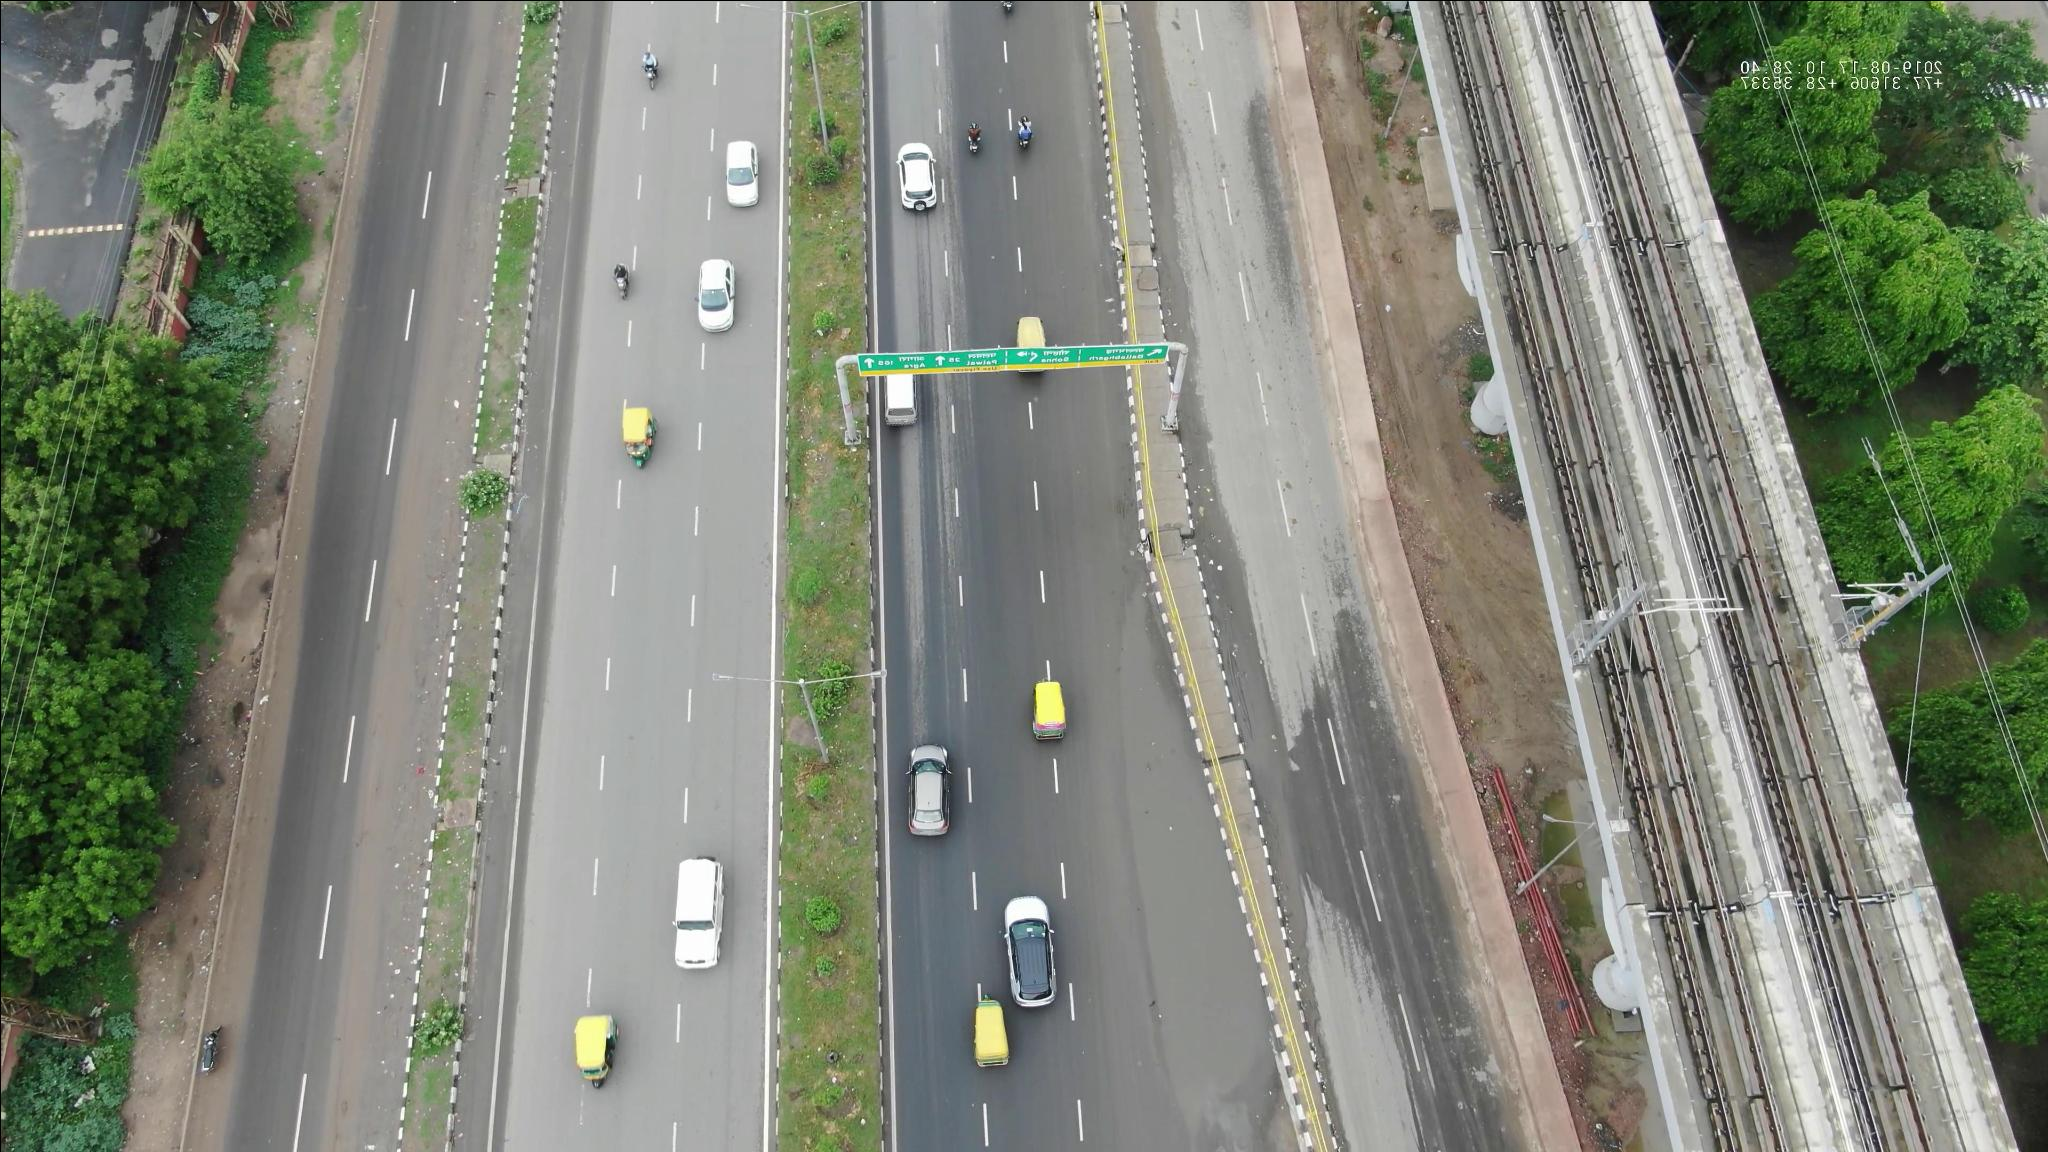Muddy_road: (345, 489, 480, 788), (394, 158, 513, 478), (325, 819, 430, 1138)
Waterlogging: (1107, 626, 1267, 1089)
